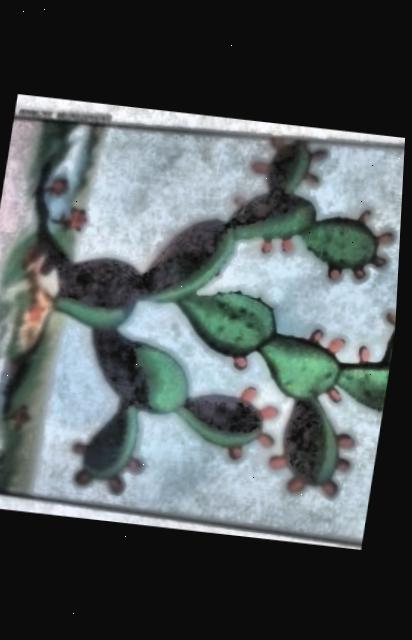El Nopal: (0, 116, 406, 543)
